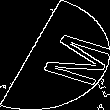M_NW: (9, 24, 101, 86)
